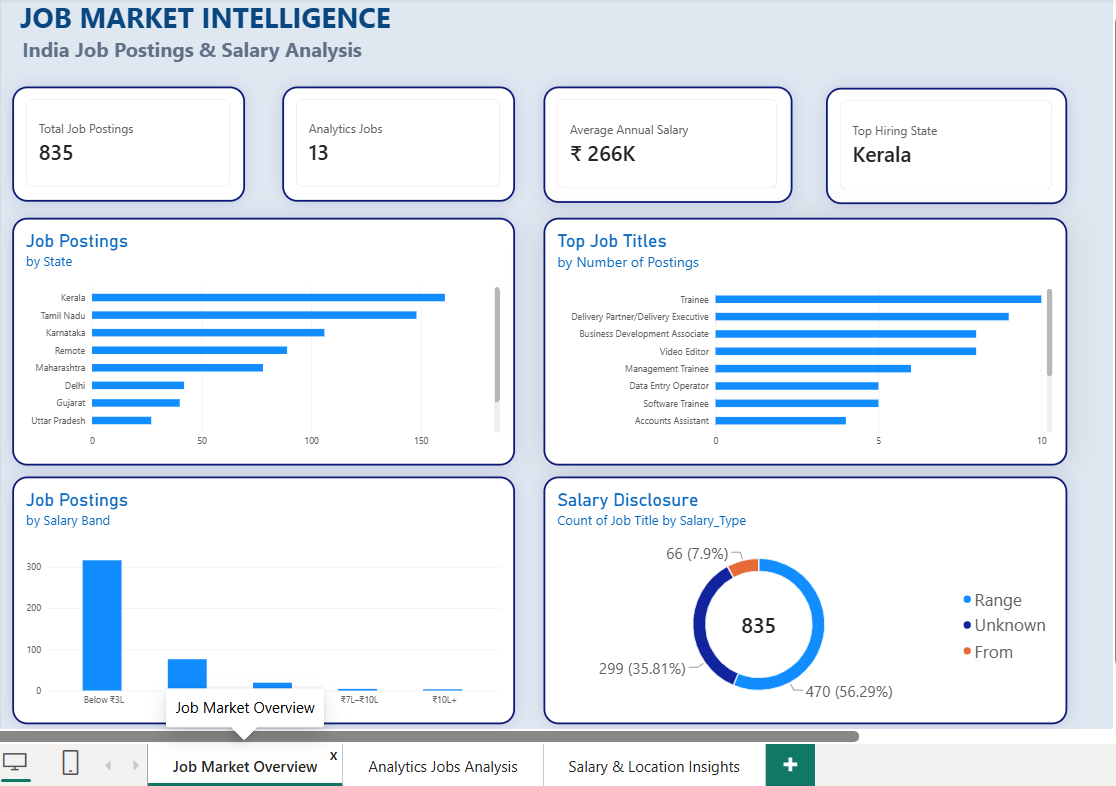

What the dashboard file says about the page in this screenshot:
{"tool":"powerbi","page":{"name":"Job Market Overview","canvas":[1920,1080],"ordinal":0},"visuals":[{"type":"cardVisual","fields":{"Data":["job_market_cleaned.Total Job Postings"]},"box":[15,130,310,153.3],"z":0},{"type":"cardVisual","fields":{"Data":["job_market_cleaned.Average Annual Salary"]},"box":[723.3,130,331.7,155],"z":1000},{"type":"cardVisual","fields":{"Data":["job_market_cleaned.Top Location"]},"box":[1100,131.7,321.7,155],"z":2000},{"type":"barChart","fields":{"Category":["job_market_cleaned.State"],"Y":["CountNonNull(job_market_cleaned.Job Title)"]},"box":[15,305,670,330],"z":3000},{"type":"barChart","fields":{"Category":["job_market_cleaned.Job Title"],"Y":["CountNonNull(job_market_cleaned.Job Title)"]},"box":[723.3,305,698.3,330],"z":4000},{"type":"clusteredColumnChart","fields":{"Category":["job_market_cleaned.Salary Band"],"Y":["CountNonNull(job_market_cleaned.Job Title)"]},"box":[15,650,670,330],"z":5000},{"type":"donutChart","title":"Salary Disclosure","fields":{"Category":["job_market_cleaned.Salary_Type"],"Y":["CountNonNull(job_market_cleaned.Job Title)"]},"box":[723.3,650,698.3,330],"z":6000},{"type":"textbox","box":[15,11.7,515,50],"z":7000},{"type":"textbox","box":[28.3,61.7,898.3,90],"z":8000},{"type":"cardVisual","fields":{"Data":["CountNonNull(job_market_cleaned.Job Title)"]},"box":[375,130,310,153.3],"z":9000}]}

Visuals, with their boxes on the page's 1920x1080 design canvas (x1, y1, x2, y2). These are canvas units, not pixel positions in the 1116x786 screenshot, which may show the page scaled, cropped or inside an application window:
cardVisual - job_market_cleaned.Total Job Postings: [15,130,325,283]
cardVisual - job_market_cleaned.Average Annual Salary: [723,130,1055,285]
cardVisual - job_market_cleaned.Top Location: [1100,132,1422,287]
barChart - job_market_cleaned.State x CountNonNull(job_market_cleaned.Job Title): [15,305,685,635]
barChart - job_market_cleaned.Job Title x CountNonNull(job_market_cleaned.Job Title): [723,305,1422,635]
clusteredColumnChart - job_market_cleaned.Salary Band x CountNonNull(job_market_cleaned.Job Title): [15,650,685,980]
"Salary Disclosure" donutChart: [723,650,1422,980]
textbox: [15,12,530,62]
textbox: [28,62,927,152]
cardVisual - CountNonNull(job_market_cleaned.Job Title): [375,130,685,283]
